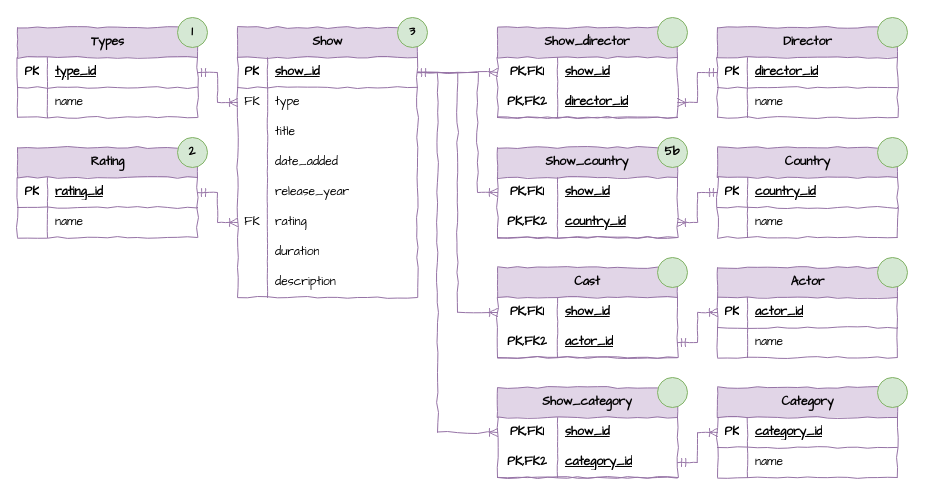
Some shapes in this 925 by 495 pixel diagram are drawn without their labels. Here are the shapes that lost their labels. From the top down, the centre of each, then its label:
At point (672, 32): "4b".
At point (892, 32): "4a".
At point (892, 152): "5a".
At point (672, 272): "6b".
At point (892, 272): "6a".
At point (672, 392): "7b".
At point (892, 392): "7a".
